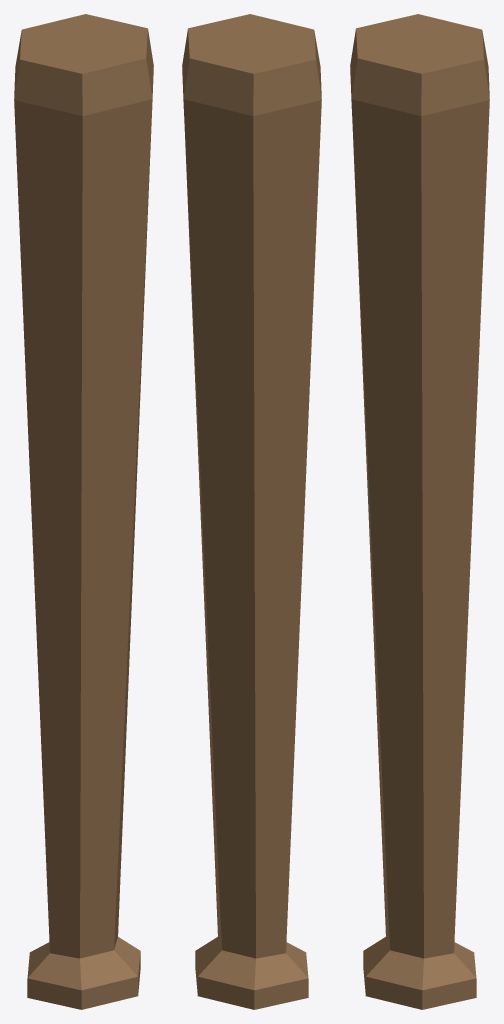
Rendered from bat1.fbx.
3 views of the same model, side by side, from view 1: azimuth 30°, elevation 25°; view 2: azimuth 150°, elevation 25°; view 3: azimuth 330°, elevation 25° (orthographic).
Parts seen in each view (by area): view 1: cylinder; view 2: cylinder; view 3: cylinder.
Part boxes in pixels (box(x1,y1,x2,y2)): cylinder: box(14, 14, 153, 1009); cylinder: box(182, 14, 321, 1009); cylinder: box(350, 14, 489, 1009).
Size of the model in its own units: 11.66 by 75 by 9.74.
1 material, 1 textured.
